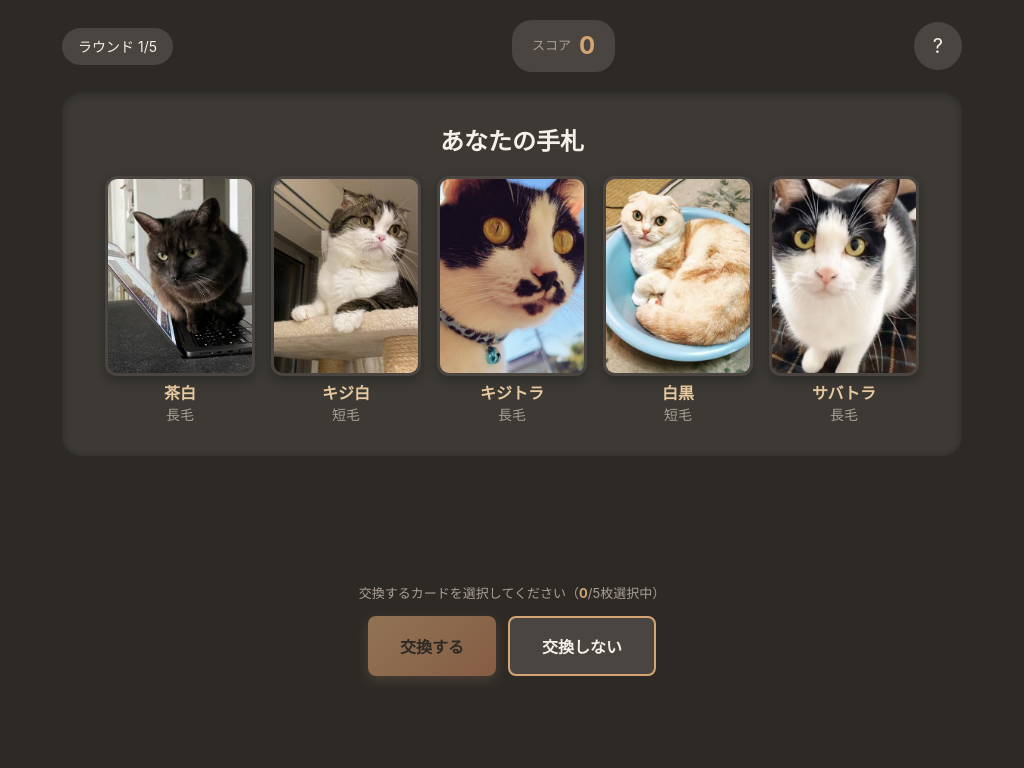
GameScreen › Card click and exchange flow › toggles card selection when clicking same card twice
The image size is (1024, 768).
What coordinates should you click on to do the following:
click the 2nd button
I would click on:
 (180, 276)
Its box is [105,176,255,376].
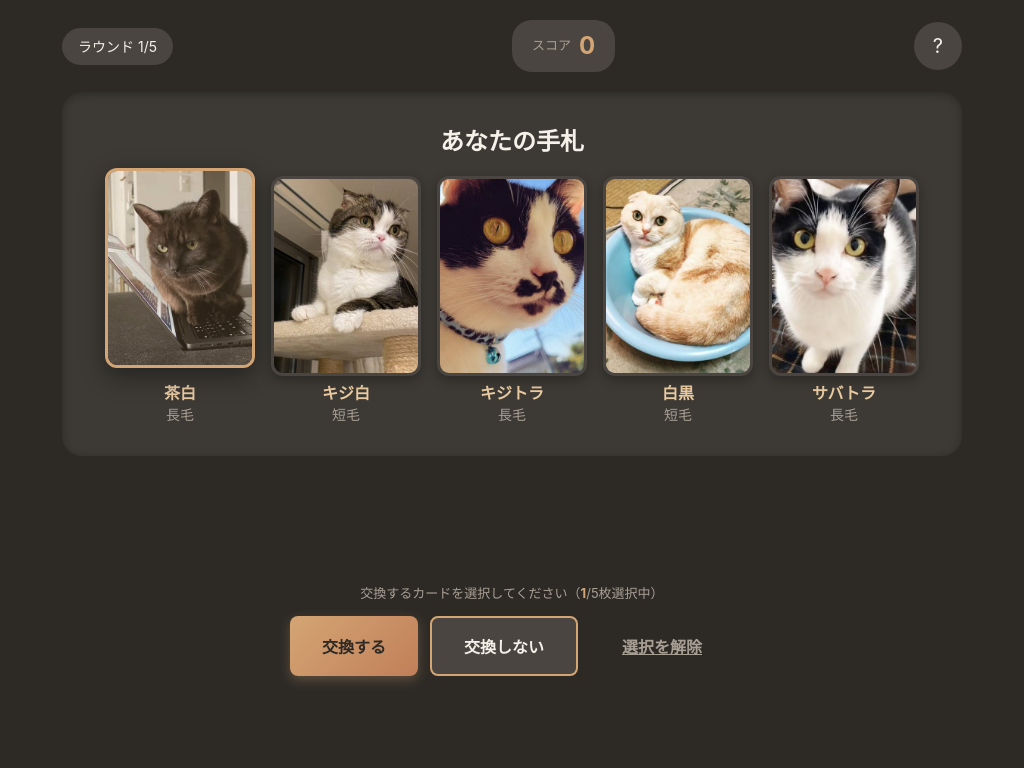
Expected: the text "1" next to "交換するカードを選択してください（" is shown, [581,585,586,601]
What coordinates should you click on to do the following:
click the 2nd button
I would click on:
 (180, 268)
Its box is [105,168,255,368].
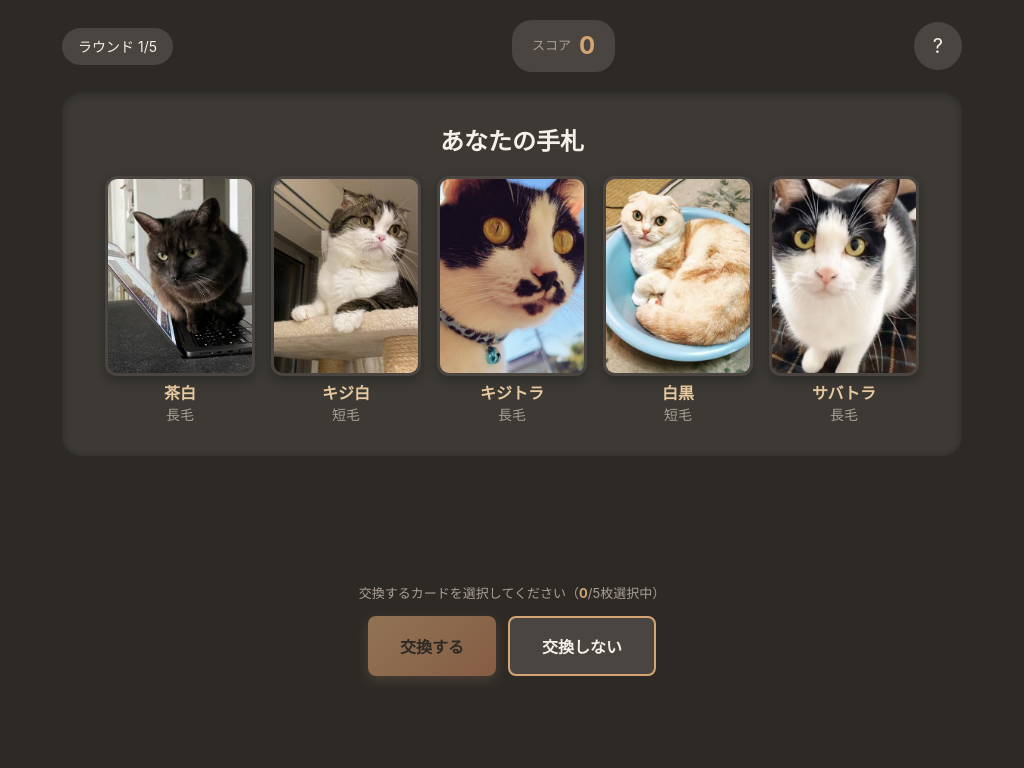
Expected: the text "0" next to "交換するカードを選択してください（" is shown, [579,585,588,601]
